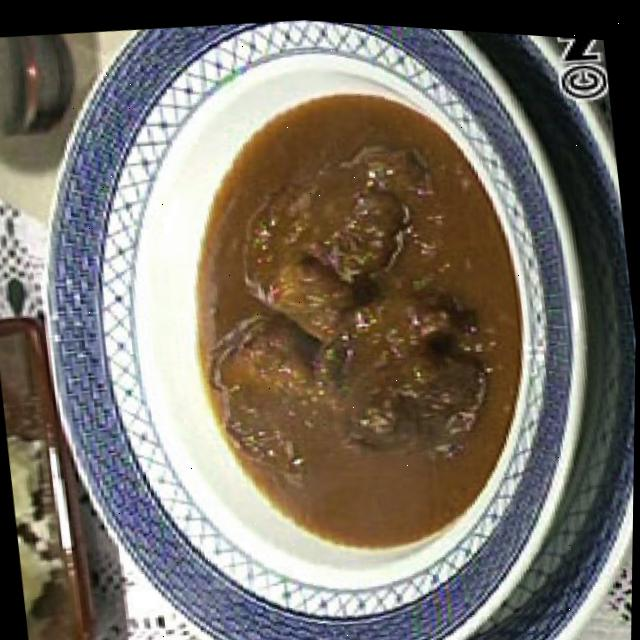汤锅炖物: (35, 2, 615, 640)
